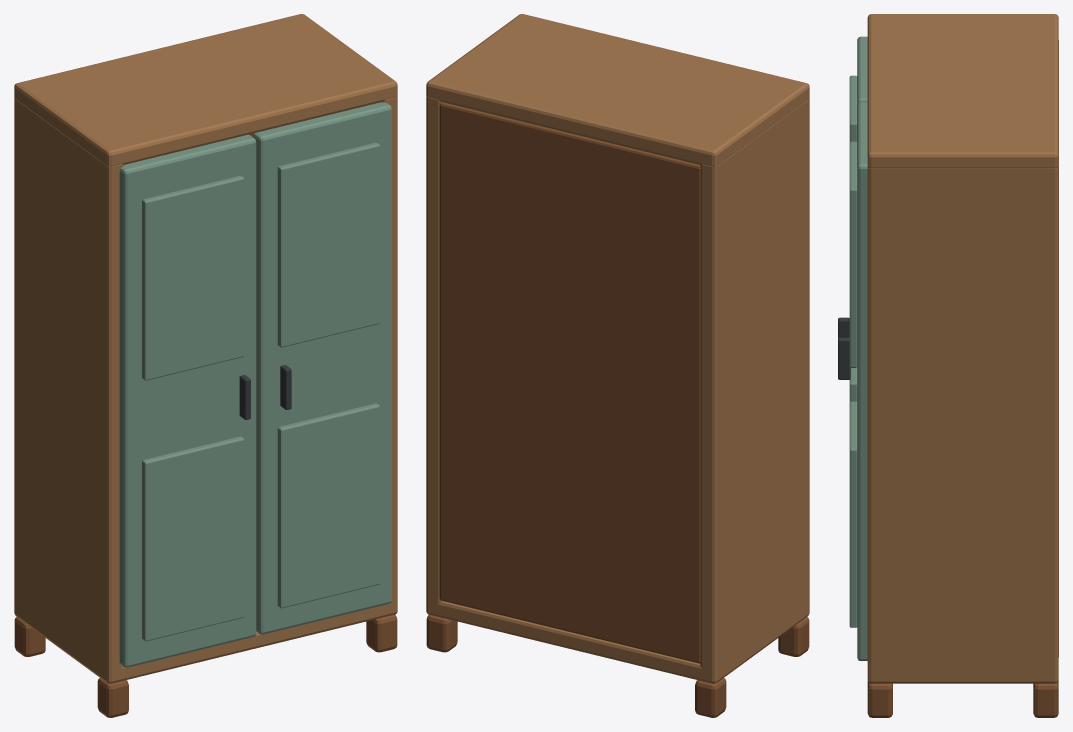
File: wardrobe.glb
The picture shows the model from 3 angles, left to right: view 1: azimuth 30°, elevation 25°; view 2: azimuth 150°, elevation 25°; view 3: azimuth 270°, elevation 25°; orthographic projection.
Parts seen in each view (by area): view 1: side, shelf.001, door, door.001, raised_panel, raised_panel.001, raised_panel.002, raised_panel.003, shelf, side.001, leg.020, leg.022 (+1 smaller); view 2: back, side, shelf.001, side.001, shelf, leg.021, leg.023, leg.020; view 3: side.001, shelf.001, door.001, raised_panel.002, raised_panel.003, leg.023, leg.022, door, back, raised_panel.001, handle.001.
Part boxes in pixels (x1,y1,x2,y2): side: (14, 98, 123, 683); shelf.001: (14, 14, 397, 166); door: (119, 134, 256, 667); door.001: (253, 102, 391, 634); raised_panel: (142, 436, 244, 641); raised_panel.001: (142, 175, 244, 380); raised_panel.002: (277, 403, 379, 608); raised_panel.003: (277, 142, 379, 347); shelf: (109, 601, 397, 683); side.001: (381, 96, 397, 615); leg.020: (97, 678, 128, 717); leg.022: (366, 614, 397, 652); back: (439, 102, 700, 663); side: (700, 98, 809, 683); shelf.001: (426, 14, 809, 166); side.001: (426, 96, 442, 615); shelf: (426, 601, 809, 683); leg.021: (695, 678, 726, 717); leg.023: (426, 614, 457, 652); leg.020: (778, 617, 809, 656); side.001: (867, 167, 1058, 683); shelf.001: (867, 14, 1058, 168); door.001: (857, 102, 867, 660); raised_panel.002: (849, 401, 857, 627); raised_panel.003: (849, 141, 857, 367); leg.023: (1033, 681, 1058, 717); leg.022: (867, 681, 892, 717); door: (857, 36, 867, 104); back: (1058, 40, 1058, 657); raised_panel.001: (849, 75, 857, 142); handle.001: (838, 337, 850, 379).
Bounding box in the file's own units: 1.05 × 1.96 × 0.6935.
